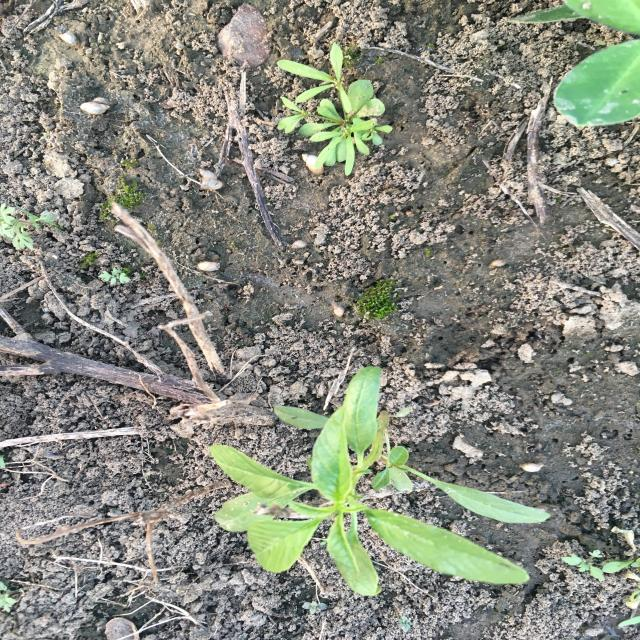Carpetweed: (274, 40, 395, 179)
Ragweed: (1, 200, 50, 255)
Waterhemp: (209, 364, 554, 596)
